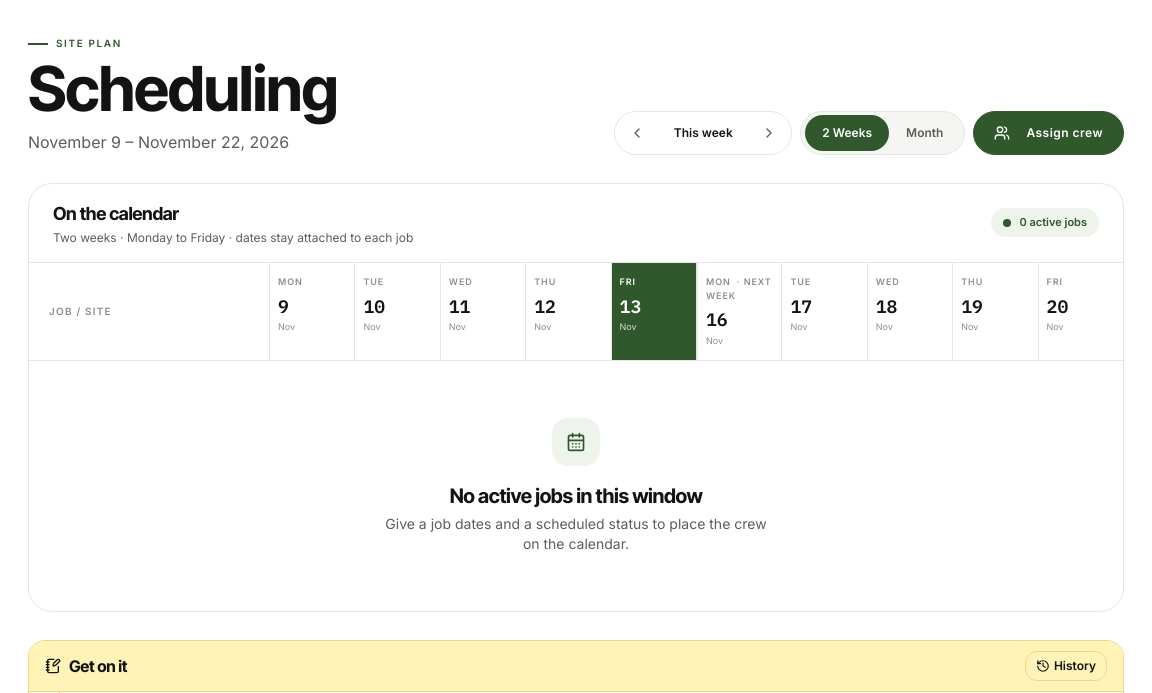
it: Scheduling redesign › explains an empty schedule and empty job chooser
The image size is (1152, 693).
Expected: the element with test id "scheduling-empty" shows "No active jobs", x1=450 y1=484 x2=702 y2=508
Click the button with test id "button-assign-crew" at (1049, 133), box x1=973 y1=111 x2=1124 y2=155
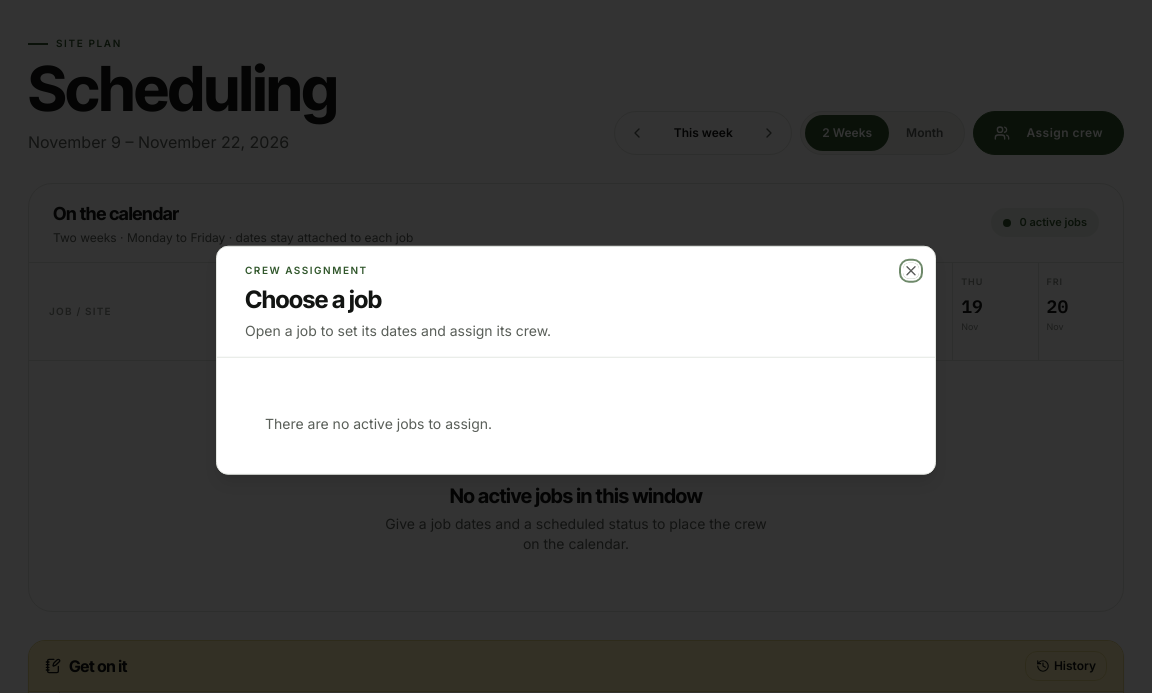
Result: the dialog shows "There are no active jobs to assign." at x1=265 y1=414 x2=492 y2=431
Press Escape
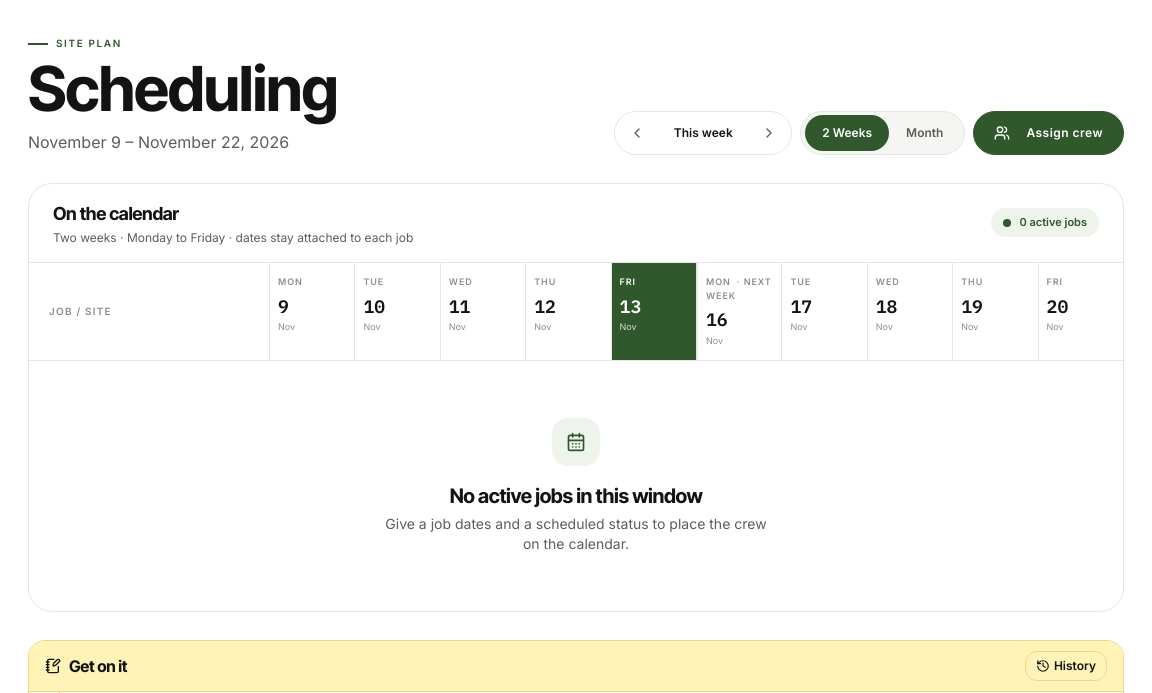
Result: the dialog is gone
